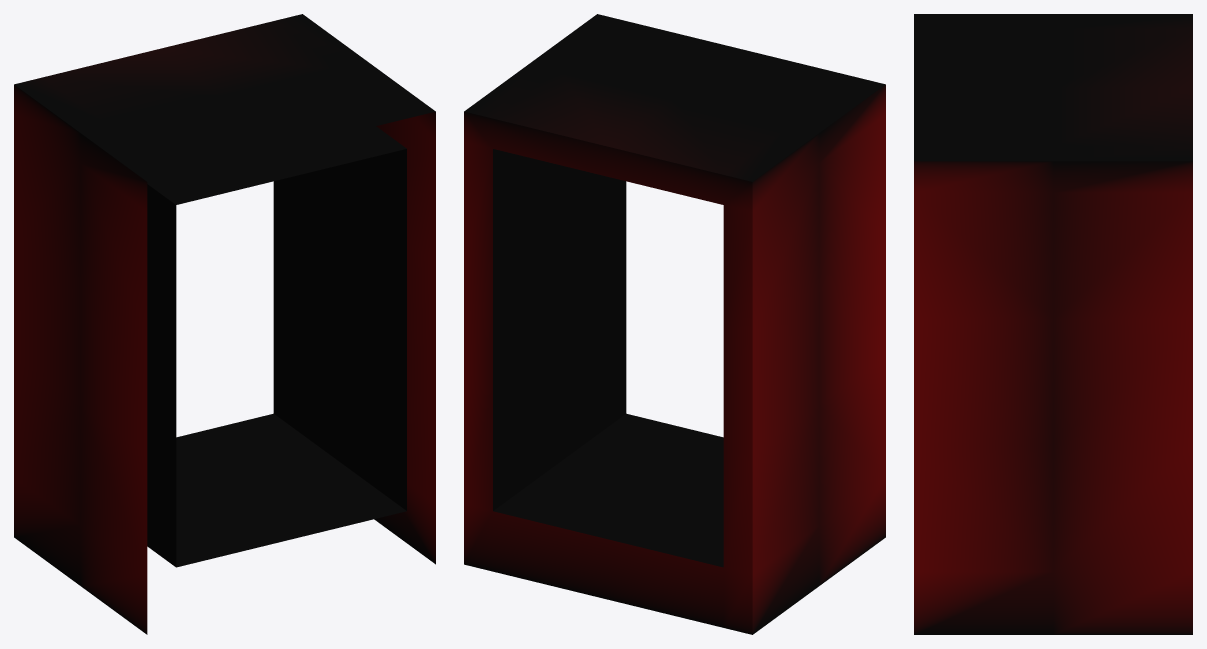
File: RoofAccessCorridor_export.obj
3 renders of one model, left to right at view 1: azimuth 30°, elevation 25°; view 2: azimuth 150°, elevation 25°; view 3: azimuth 270°, elevation 25°, orthographic. The views are drawn at different scales.
Visible parts, largest first — view 1: RoofAccessCorridor; view 2: RoofAccessCorridor; view 3: RoofAccessCorridor.
Part boxes in pixels (box(x1,y1,x2,y2)): RoofAccessCorridor: box(14, 14, 435, 634); RoofAccessCorridor: box(464, 14, 885, 634); RoofAccessCorridor: box(914, 14, 1192, 634).
Size of the model in its own units: 2.5 by 3.75 by 2.
